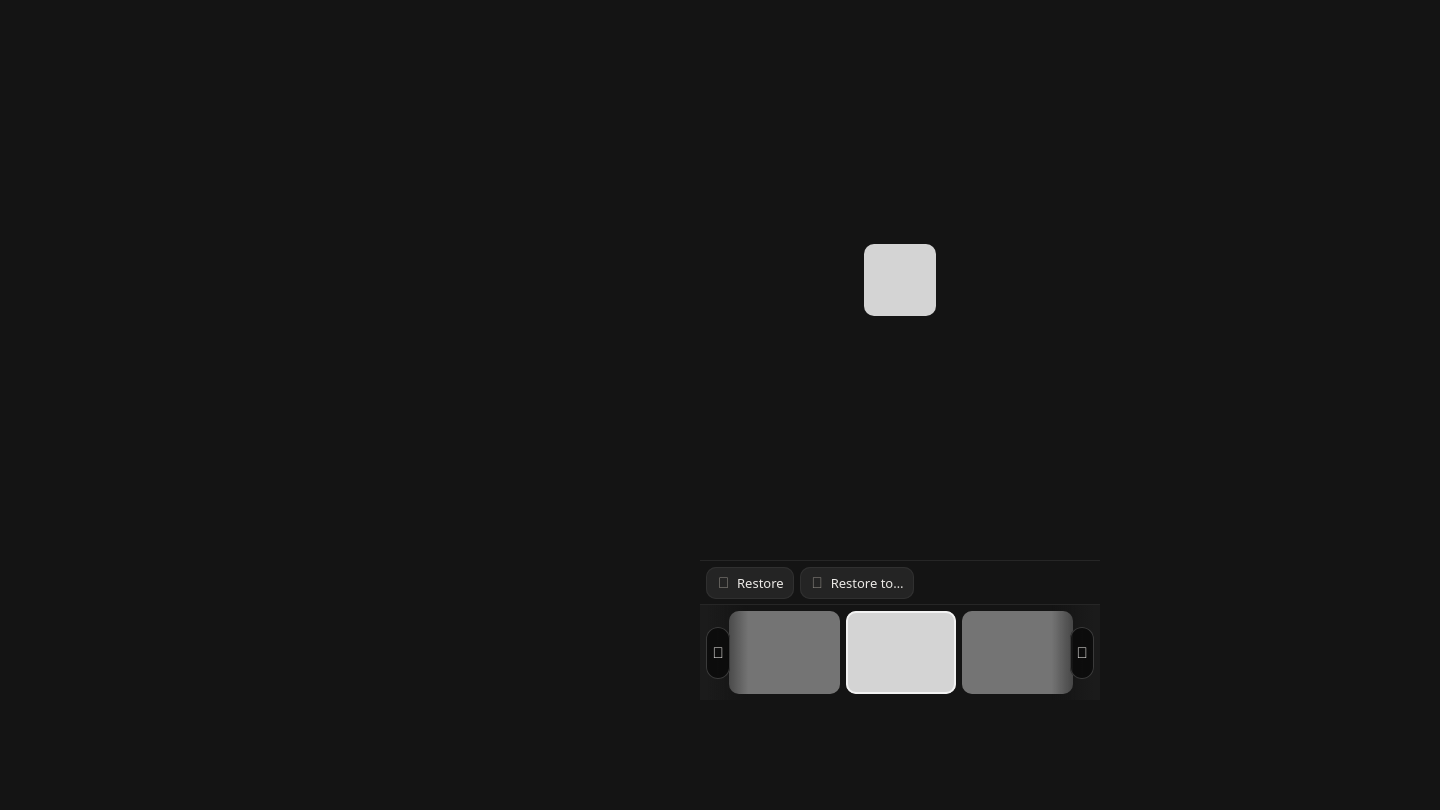
Test: restored to a folder inside a search, the file's bar has no Restore to…, so its picture takes the focus
Expected: the element named "Actions" is shown, [700, 560, 1100, 604]
Expected: the list named "Filmstrip" is shown, [700, 605, 1100, 700]
Click the button "Restore to…". click: (857, 582)
box: [800, 566, 914, 598]
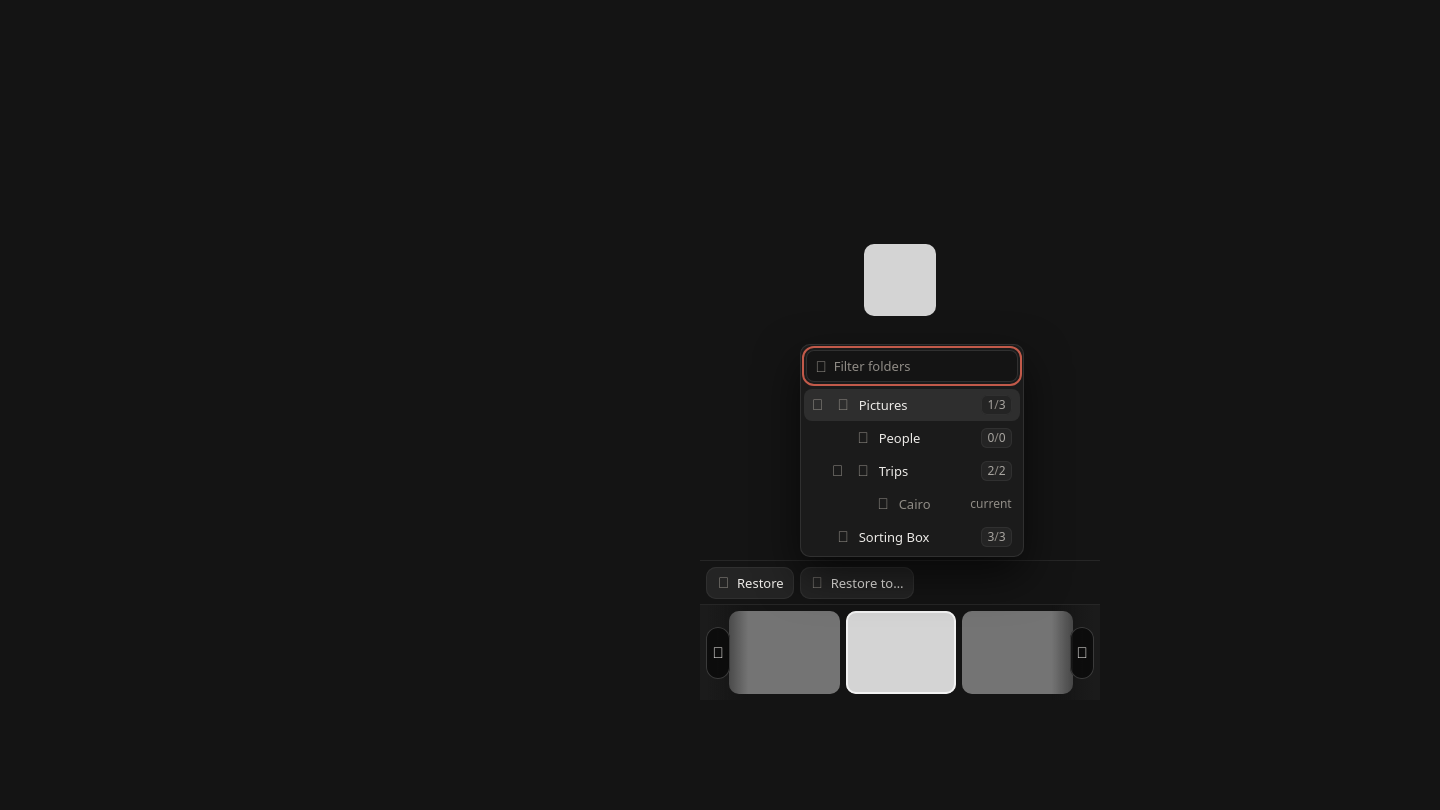
Click the option "People 0/0". click: (900, 438)
box: [858, 428, 1012, 448]
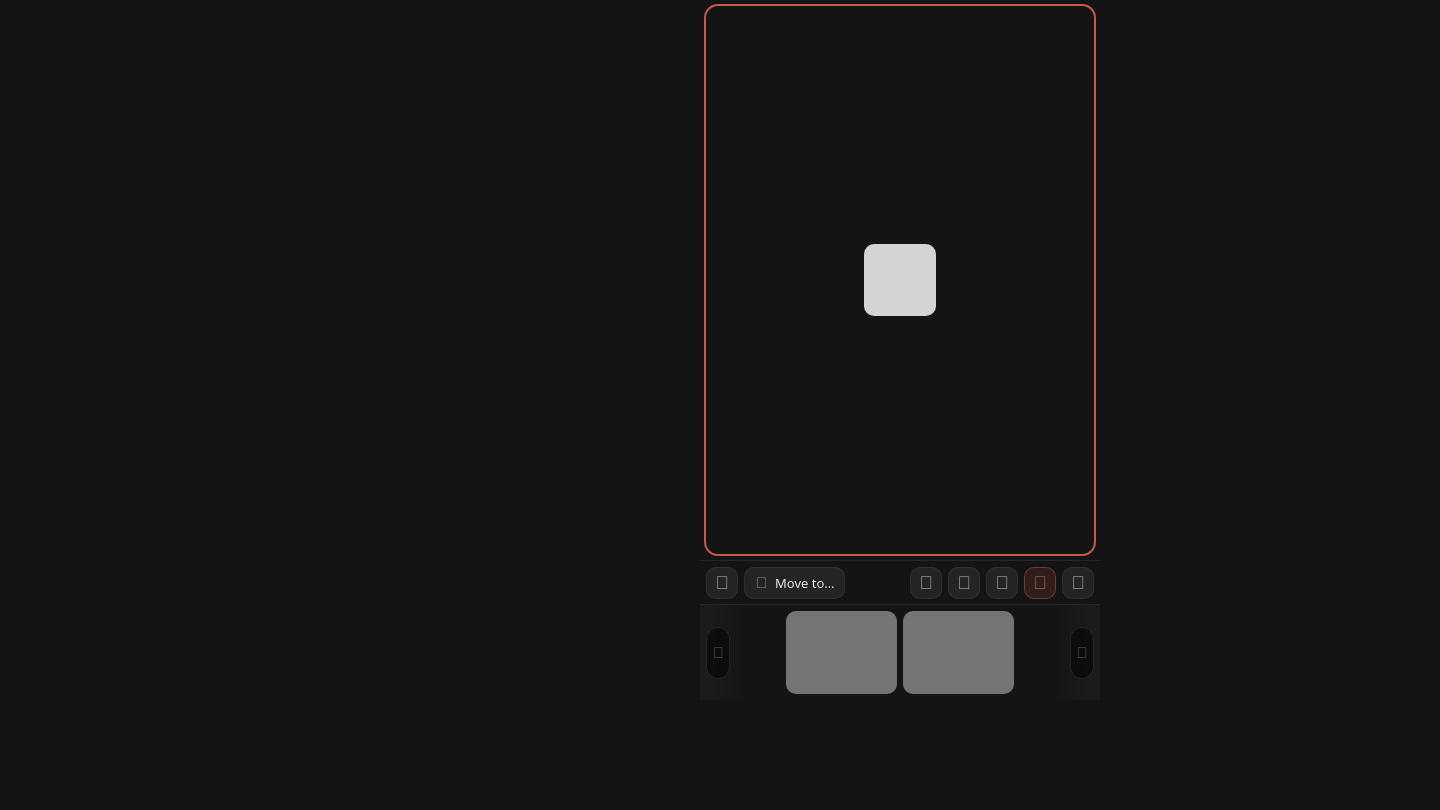
Expected: the button "Move to…" is shown, [744, 566, 845, 598]
